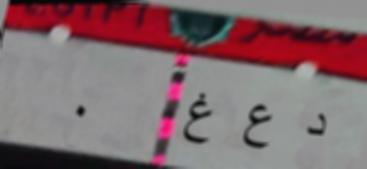0: (67, 97, 103, 130)
ain: (230, 100, 280, 160)
daal: (297, 101, 332, 153)
ghayn: (176, 85, 216, 152)
